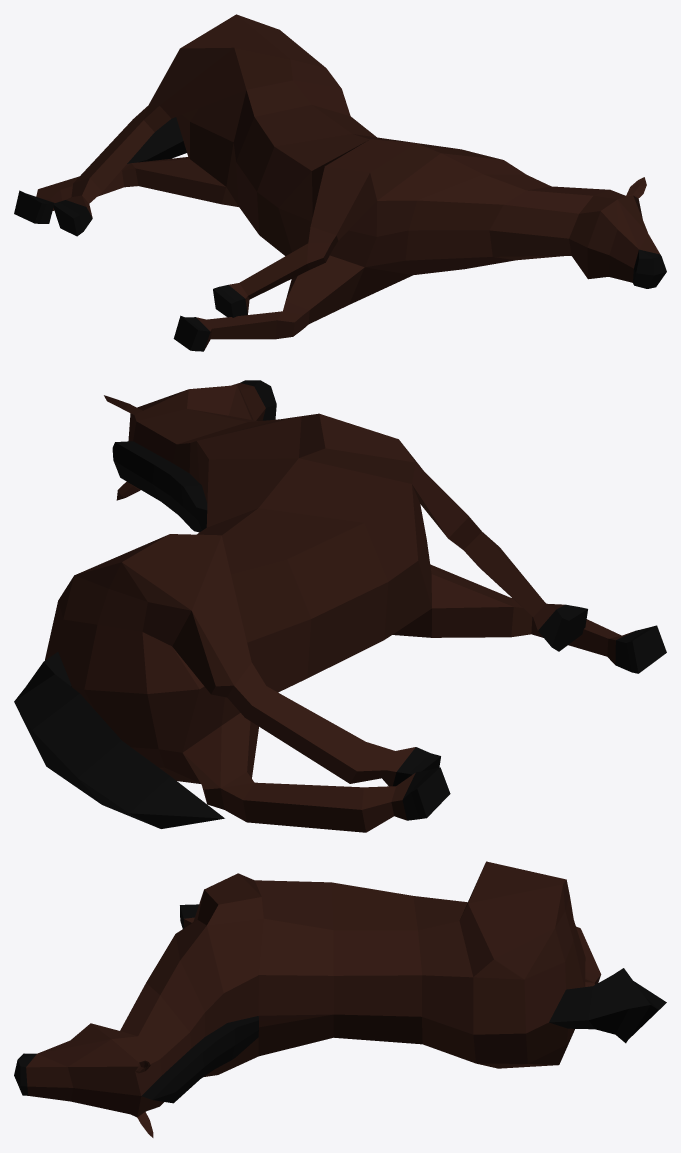
Rendered from Horse_000020.obj.
3 renders of one model, top to bottom at view 1: azimuth 30°, elevation 25°; view 2: azimuth 150°, elevation 25°; view 3: azimuth 270°, elevation 25°, orthographic. The views are drawn at different scales.
Parts seen in each view (by area): view 1: Horse_Cylinder; view 2: Horse_Cylinder; view 3: Horse_Cylinder.
Boxes of the visible parts, x1=… form: Horse_Cylinder: x1=14, y1=14, x2=666, y2=351; Horse_Cylinder: x1=14, y1=380, x2=666, y2=832; Horse_Cylinder: x1=14, y1=861, x2=666, y2=1137.
Bounding box in the file's own units: 7.42 × 2.74 × 9.12.
